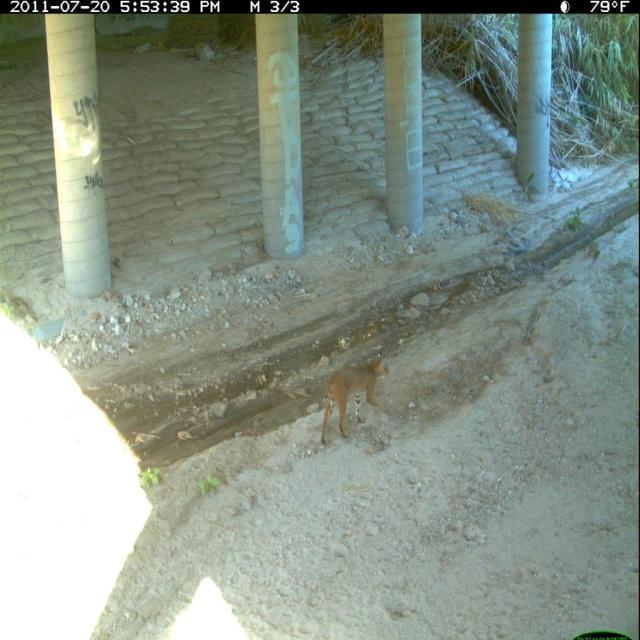bobcat: (316, 346, 394, 449)
